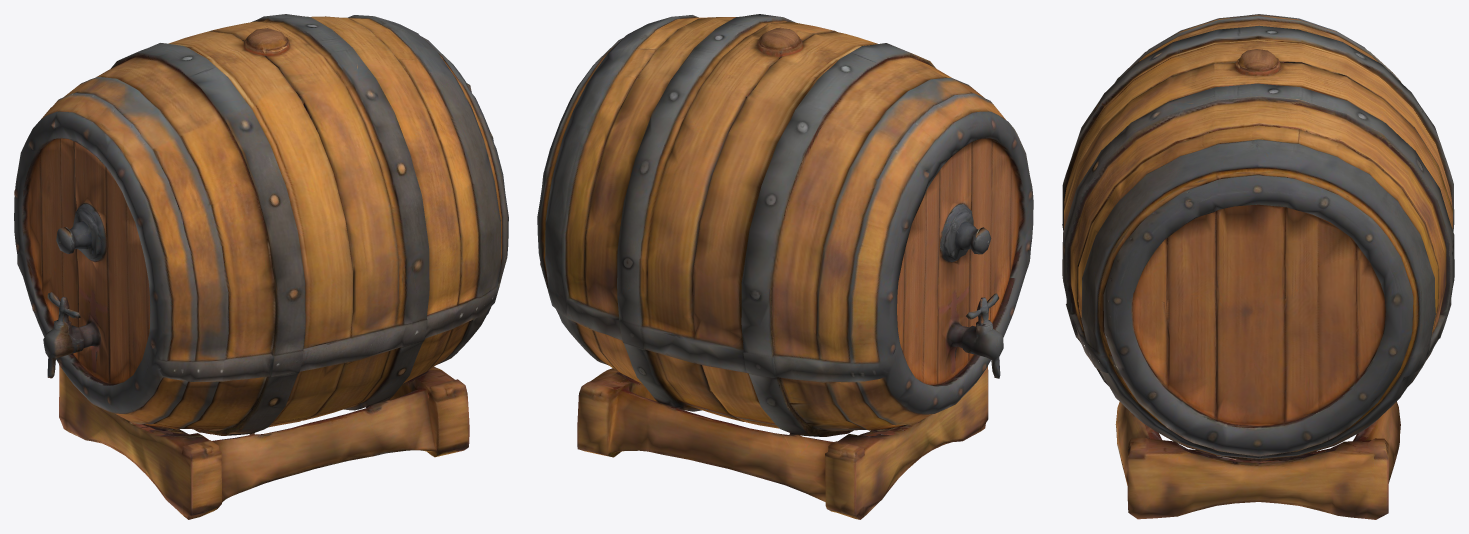
Rendered from barrel_tap.glb.
3 views of the same model, side by side, from view 1: azimuth 30°, elevation 25°; view 2: azimuth 150°, elevation 25°; view 3: azimuth 270°, elevation 25° (orthographic).
Parts seen in each view (by area): view 1: model; view 2: model; view 3: model.
Part boxes in pixels (x1,y1,x2,y2): model: [14, 14, 508, 519]; model: [537, 14, 1033, 519]; model: [1062, 14, 1454, 519].
Bounding box in the file's own units: 2 × 2 × 1.77.
1 material, 1 textured.
